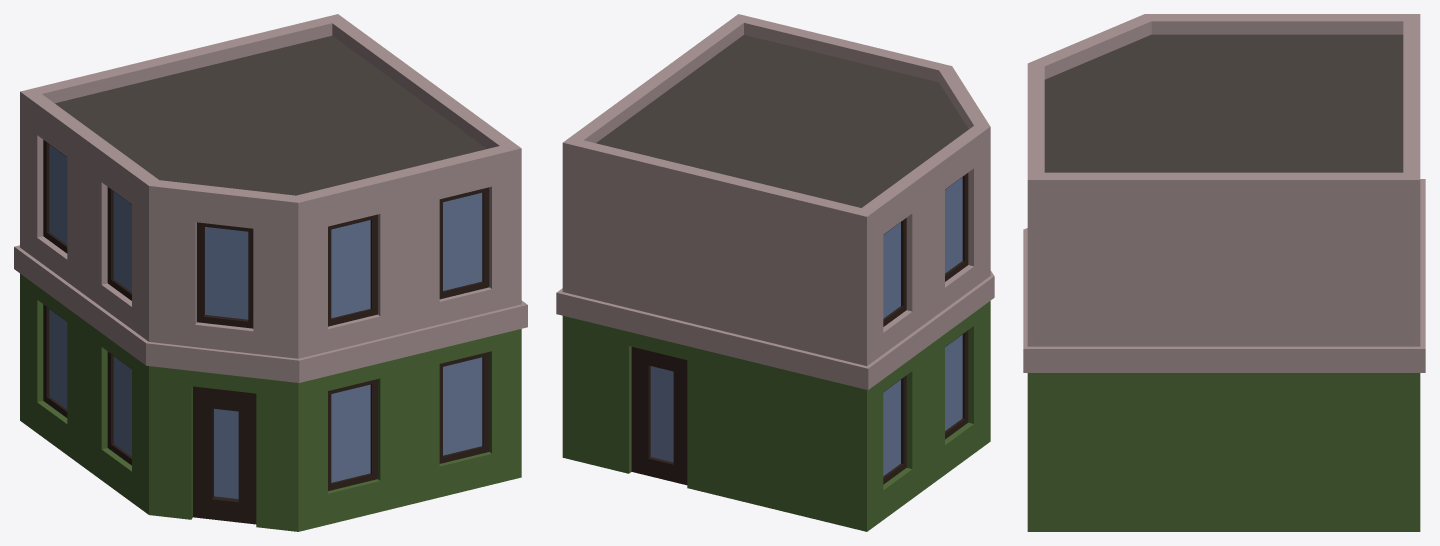
File: ApartmentBuilding_08.fbx
The picture shows the model from 3 angles, left to right: view 1: azimuth 30°, elevation 25°; view 2: azimuth 150°, elevation 25°; view 3: azimuth 270°, elevation 25°; orthographic projection. The views are drawn at different scales.
Visible parts, largest first — view 1: ApartmentBuilding_08; view 2: ApartmentBuilding_08; view 3: ApartmentBuilding_08.
Boxes of the visible parts, box(x1,y1,x2,y2) form: ApartmentBuilding_08: box(14, 14, 527, 531); ApartmentBuilding_08: box(556, 14, 994, 531); ApartmentBuilding_08: box(1023, 14, 1425, 531).
Size of the model in its own units: 7.6 by 7.34 by 7.6.
